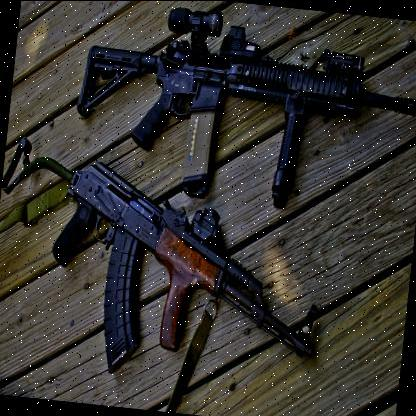rifle: (0, 128, 328, 408), (64, 0, 416, 233)
